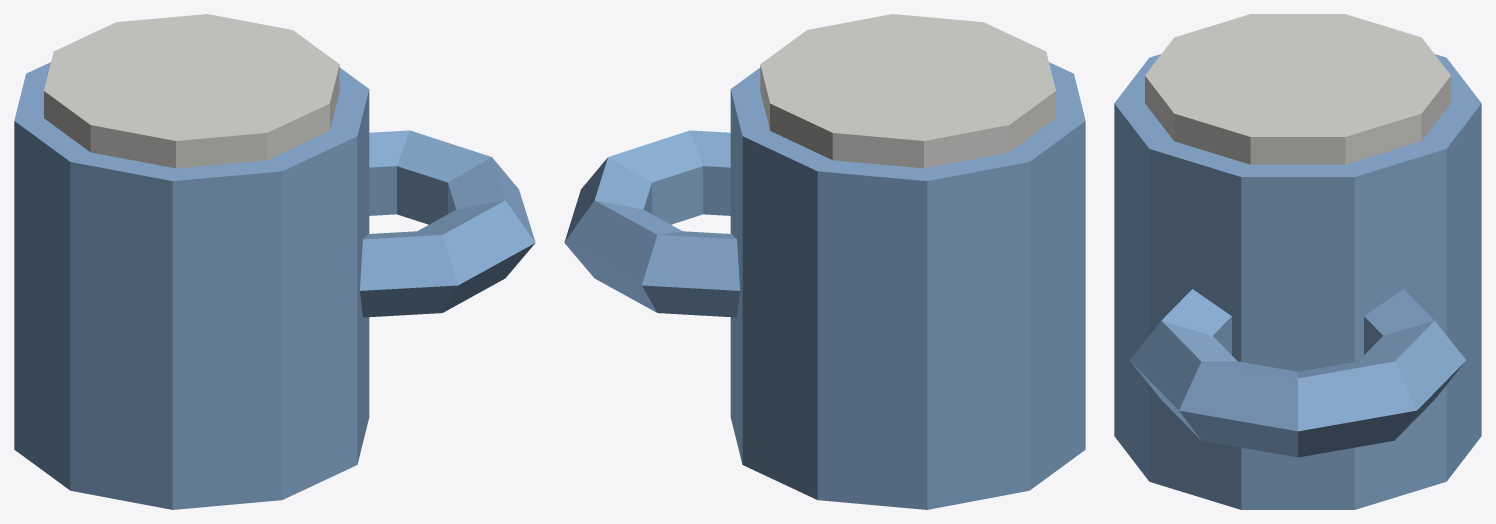
The model's file is kid_copo.glb.
3 renders of one model, left to right at view 1: azimuth 30°, elevation 25°; view 2: azimuth 150°, elevation 25°; view 3: azimuth 270°, elevation 25°, orthographic.
Visible parts, largest first — view 1: KID_COPO_v01; view 2: KID_COPO_v01; view 3: KID_COPO_v01.
Part boxes in pixels (left/top/right/bottom): KID_COPO_v01: left=14, top=14, right=535, bottom=509; KID_COPO_v01: left=564, top=14, right=1085, bottom=509; KID_COPO_v01: left=1114, top=14, right=1481, bottom=509.
Size of the model in its own units: 0.1821 by 0.13 by 0.12.
